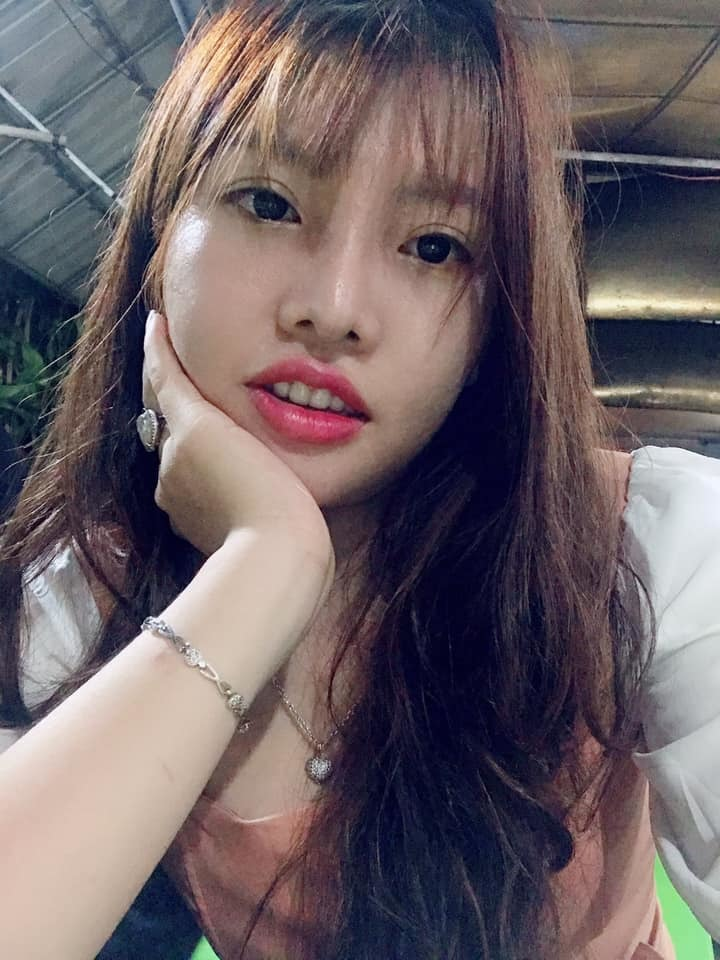people: (123, 1, 642, 960)
